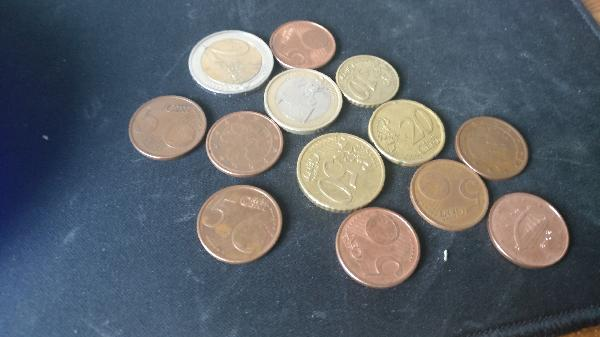Fifty Cent: (297, 134, 385, 207)
Five Cent: (335, 207, 425, 288), (196, 184, 283, 262), (486, 191, 570, 266), (126, 94, 210, 163), (409, 158, 490, 228), (204, 110, 284, 176), (453, 117, 529, 178), (266, 17, 341, 73)
One Euro: (267, 69, 345, 130)
Ten Cent: (337, 54, 403, 107)
Twenty Cent: (368, 98, 451, 166)
Two Euro: (189, 27, 274, 92)
